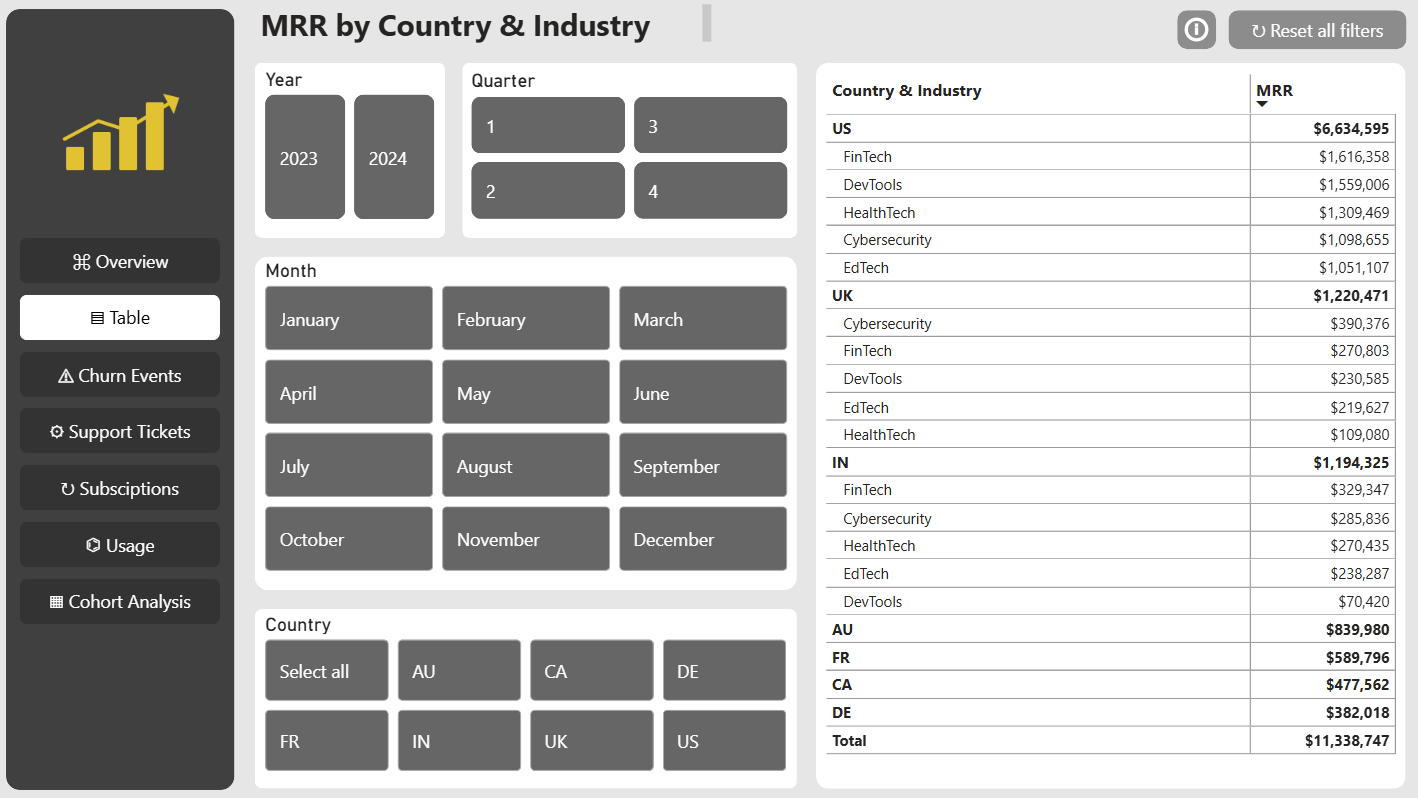

The page's visual inventory and layout, read from the dashboard file:
{"tool":"powerbi","page":{"name":"\t▤ Table","canvas":[1280,720],"ordinal":1},"visuals":[{"type":"image","box":[1.2,0,1278.8,720],"z":0},{"type":"shape","box":[232.5,231.2,487.5,300],"z":1000},{"type":"shape","box":[737.5,57.5,530,652.5],"z":2000},{"type":"shape","box":[418.8,57.5,301.2,157.5],"z":3000},{"type":"shape","box":[232.5,57.5,171.2,157.5],"z":4000},{"type":"shape","box":[232.5,548.8,487.5,161.2],"z":5000},{"type":"textbox","box":[232.9,0,415.7,44.3],"z":6000},{"type":"actionButton","box":[1062,10,35,35],"z":7000},{"type":"actionButton","title":"d","box":[1108,10,160,35],"z":8000},{"type":"advancedSlicerVisual","fields":{"Values":["date.Quarter"]},"box":[422.4,57.9,296.1,156.6],"z":9000},{"type":"advancedSlicerVisual","fields":{"Values":["date.Month Name"]},"box":[237.5,233.8,479,288],"z":10000},{"type":"advancedSlicerVisual","fields":{"Values":["public accounts.country"]},"box":[237.5,551.2,478,147.5],"z":11000},{"type":"pivotTable","fields":{"Rows":["public accounts.country","public accounts.industry"],"Columns":["public accounts.industry"],"Values":["Sum(public subscriptions.mrr_amount)"]},"box":[741.2,62.5,525,635],"z":12000},{"type":"shape","box":[0,0,223.3,720],"z":13000},{"type":"pageNavigator","box":[21.2,215,180,350],"z":14000},{"type":"image","box":[0,74,238,110],"z":15000},{"type":"advancedSlicerVisual","fields":{"Values":["date.Year"]},"box":[237.5,61.2,163.8,141.2],"z":16000}]}

Visuals, with their boxes in screenshot pixels (x1, y1, x2, y2), scaled from the page's 1280x720 canvas onto the 1418x798 screenshot:
image: left=1, top=0, right=1417, bottom=797
shape: left=258, top=256, right=798, bottom=589
shape: left=817, top=64, right=1404, bottom=787
shape: left=464, top=64, right=798, bottom=238
shape: left=258, top=64, right=447, bottom=238
shape: left=258, top=608, right=798, bottom=787
textbox: left=258, top=0, right=719, bottom=49
actionButton: left=1176, top=11, right=1215, bottom=50
"d" actionButton: left=1227, top=11, right=1405, bottom=50
advancedSlicerVisual - date.Quarter: left=468, top=64, right=796, bottom=238
advancedSlicerVisual - date.Month Name: left=263, top=259, right=794, bottom=578
advancedSlicerVisual - public accounts.country: left=263, top=611, right=793, bottom=774
pivotTable - public accounts.country x public accounts.industry: left=821, top=69, right=1403, bottom=773
shape: left=0, top=0, right=247, bottom=797
pageNavigator: left=23, top=238, right=223, bottom=626
image: left=0, top=82, right=264, bottom=204
advancedSlicerVisual - date.Year: left=263, top=68, right=445, bottom=224
